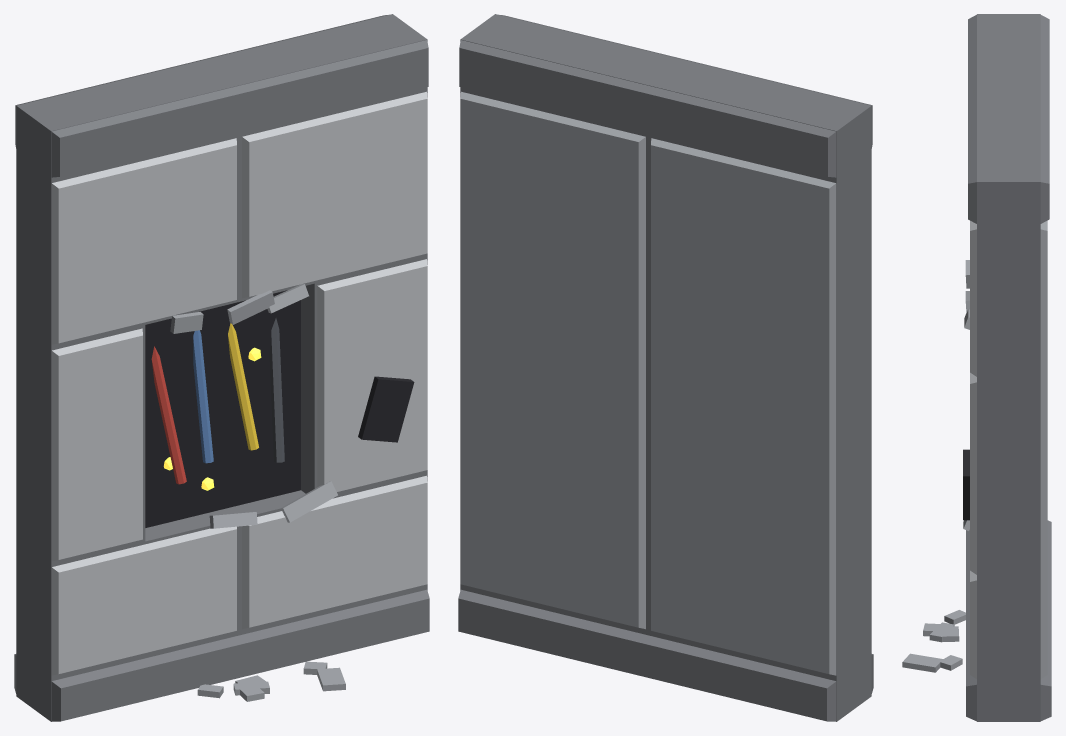
The model's file is SM_Wall_Damaged.glb.
3 views of the same model, side by side, from view 1: azimuth 30°, elevation 25°; view 2: azimuth 150°, elevation 25°; view 3: azimuth 270°, elevation 25° (orthographic). The views are drawn at different scales.
Parts seen in each view (by area): view 1: SM_Wall_Damaged; view 2: SM_Wall_Damaged; view 3: SM_Wall_Damaged.
Boxes of the visible parts, box(x1,y1,x2,y2) form: SM_Wall_Damaged: box(14, 14, 429, 721); SM_Wall_Damaged: box(458, 14, 873, 721); SM_Wall_Damaged: box(902, 14, 1051, 721).
Bounding box in the file's own units: 2 × 3 × 0.7502.
